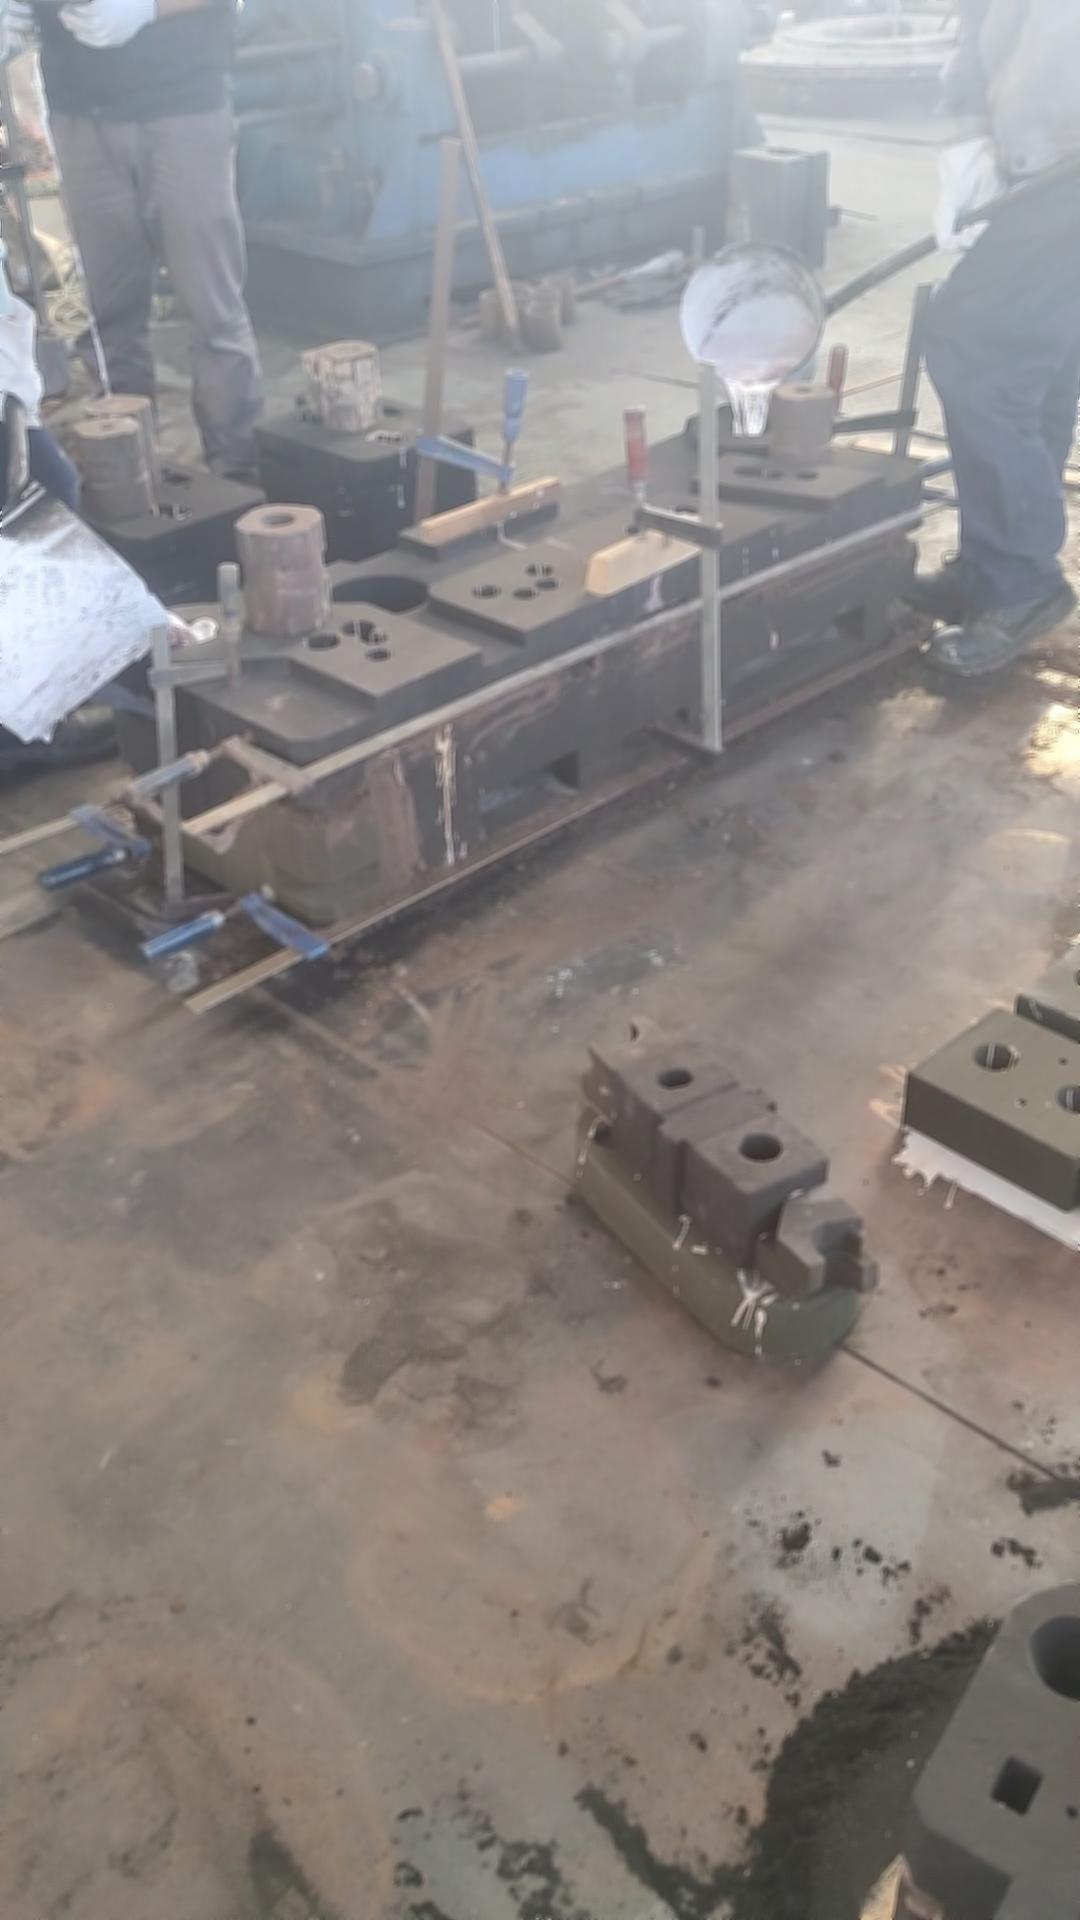pouring hole: (1029, 1615, 1080, 1702), (153, 618, 222, 644), (972, 1040, 1019, 1071), (98, 423, 136, 456), (728, 411, 771, 439), (327, 368, 364, 393), (1055, 1083, 1080, 1116), (525, 302, 556, 313), (502, 280, 527, 293), (480, 289, 506, 301), (541, 276, 574, 285), (504, 297, 527, 309), (531, 287, 559, 297), (1072, 964, 1080, 986)
